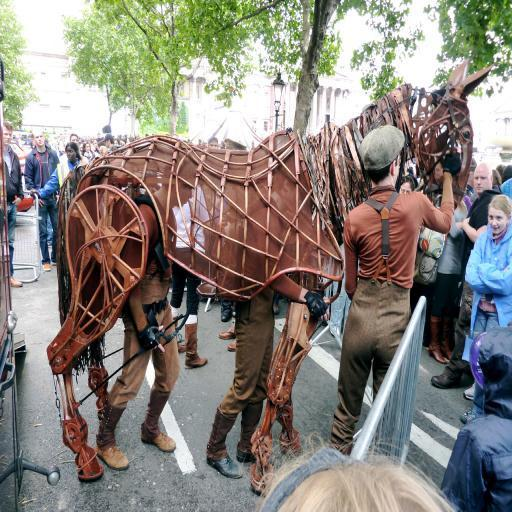horse: (44, 54, 496, 503)
